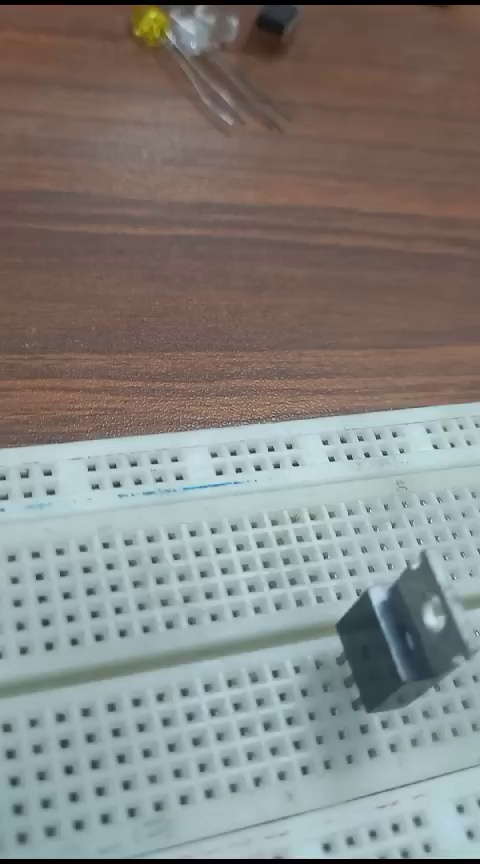voltage regulator: (324, 553, 477, 720)
